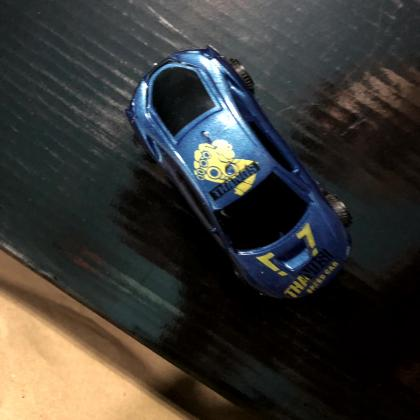Car: (122, 43, 356, 302)
